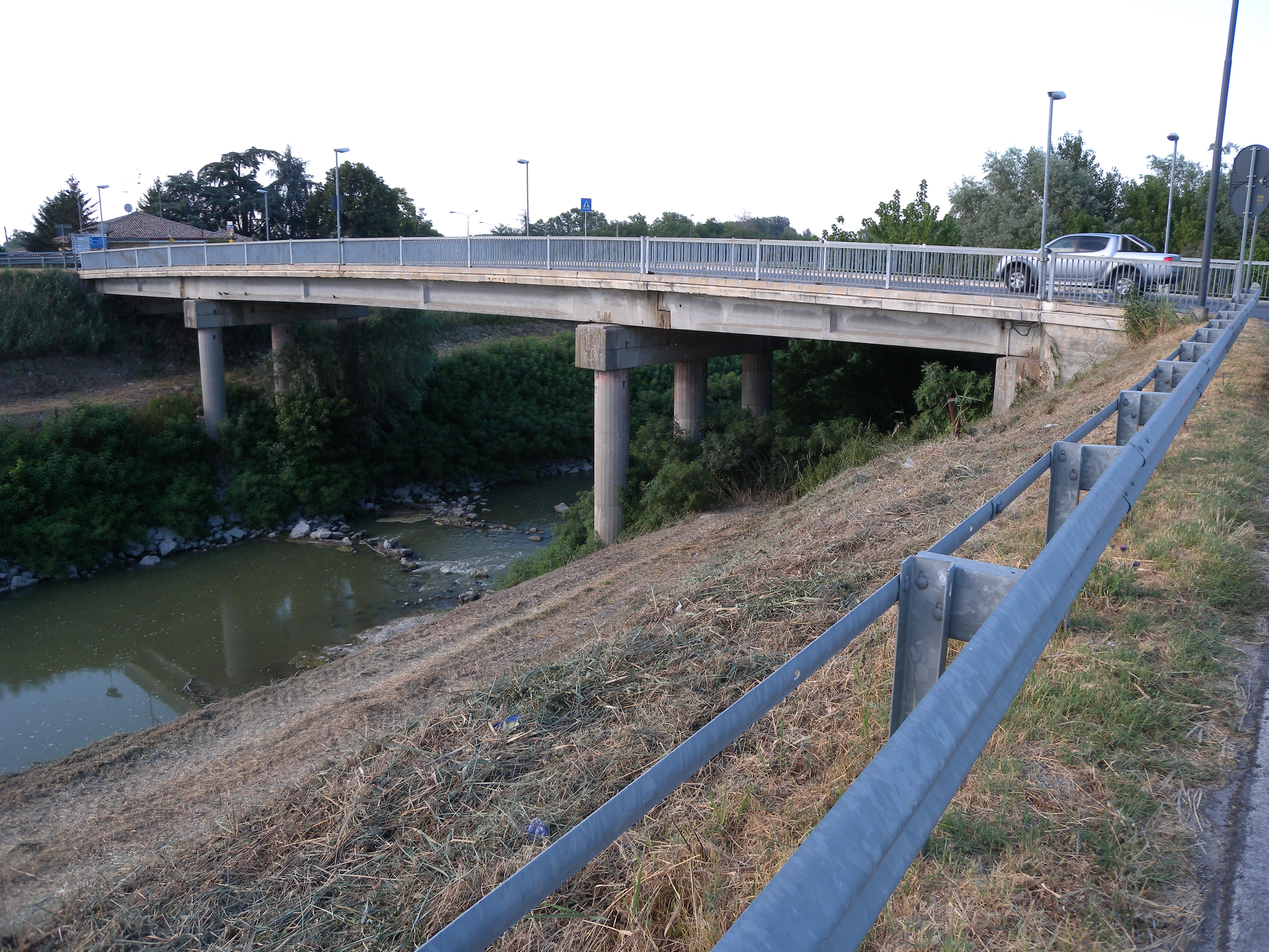Crack: (659, 292, 674, 311)
Non structural damage: (1054, 301, 1134, 320)
Spalling: (649, 288, 755, 299), (314, 275, 410, 280), (585, 310, 612, 323), (478, 276, 517, 284), (411, 273, 443, 281), (656, 312, 669, 330), (1019, 362, 1026, 383), (1003, 359, 1012, 372), (1027, 345, 1035, 357), (444, 279, 459, 282)
